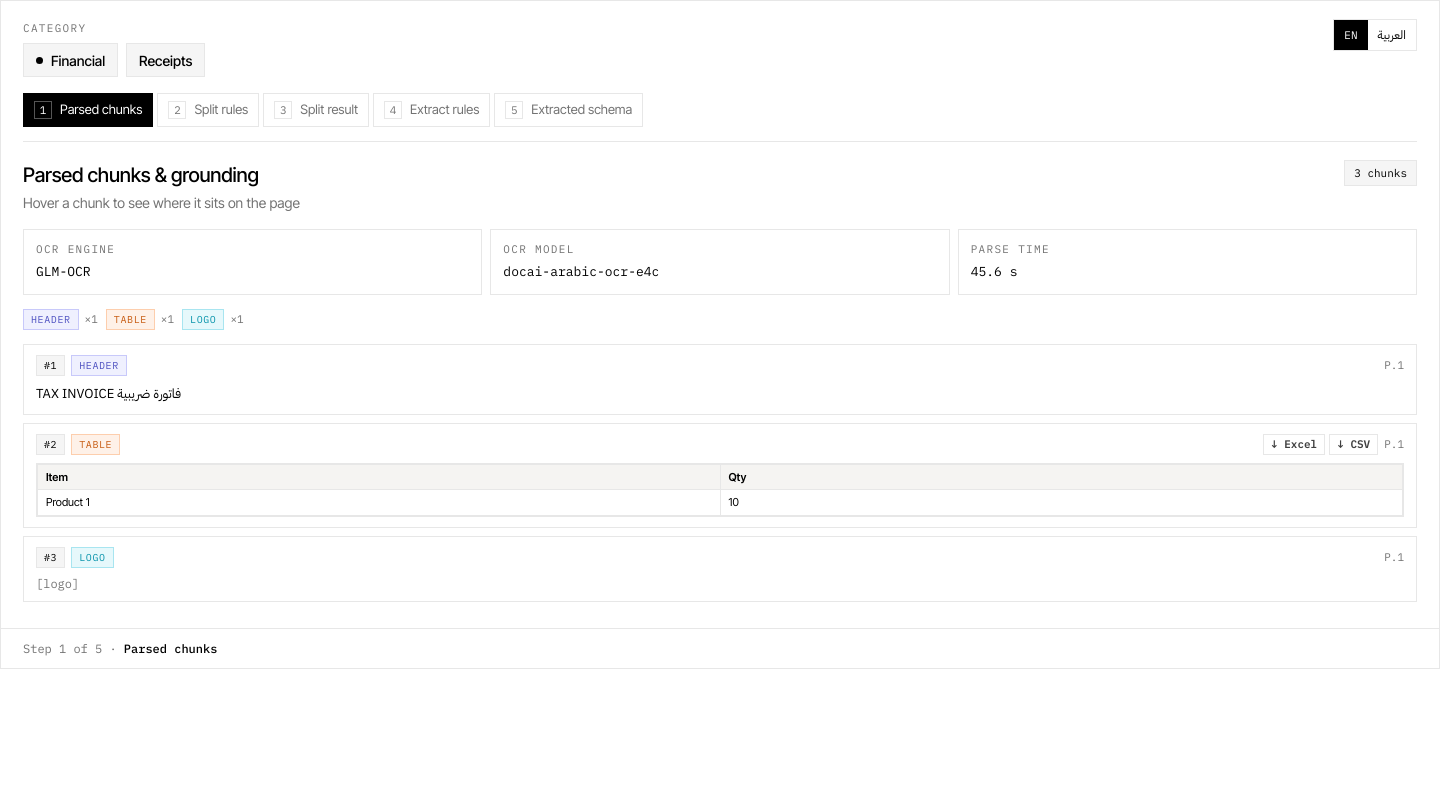
Test case: json view shows raw extraction
The image size is (1440, 810).
Click the button "5 Extracted schema" at (569, 110), box [494,93,643,127]
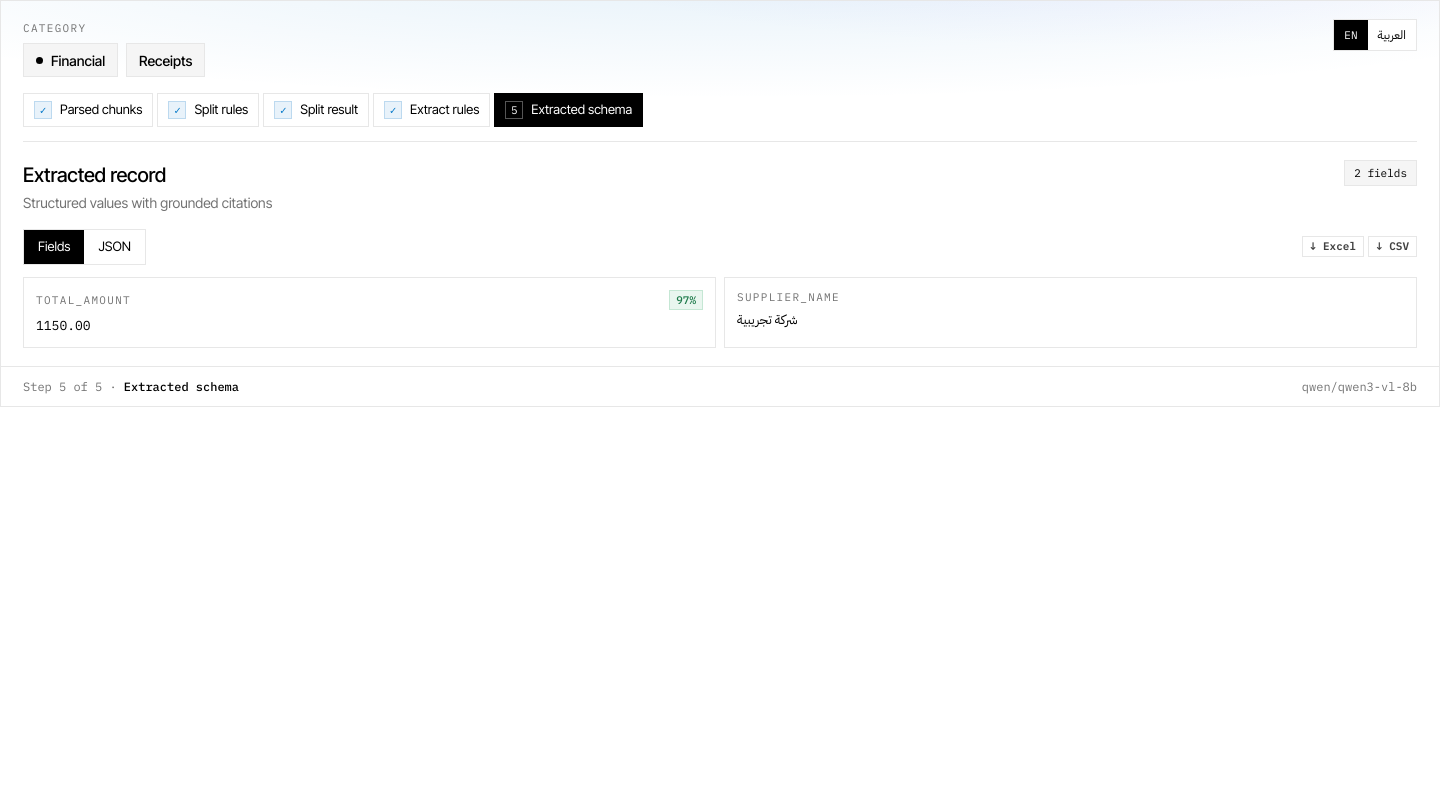
Click the button "JSON" at (115, 247), box [84,230,145,264]
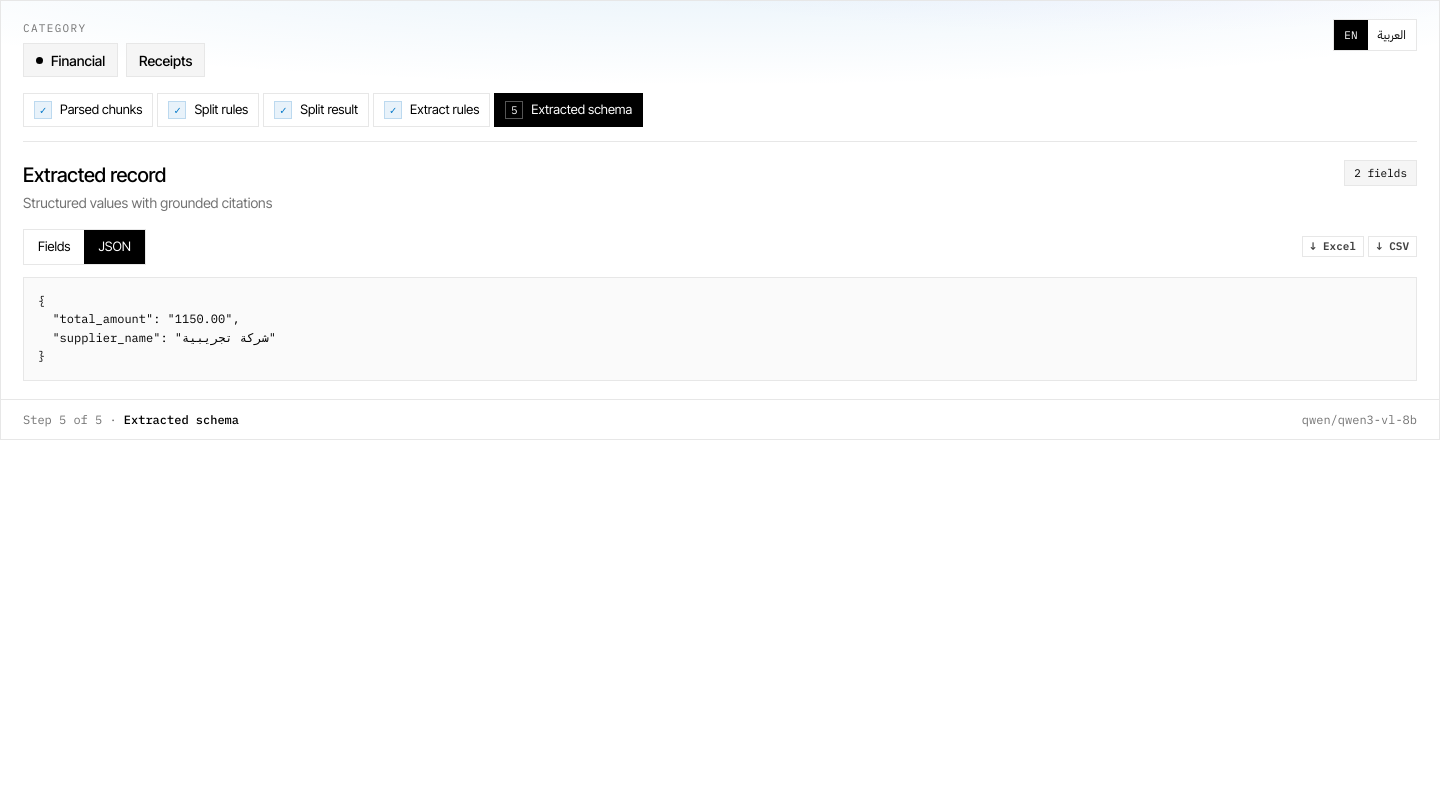
Expected: the text "\"total_amount\": \"1150.00\"" is shown, [38,292,276,363]
